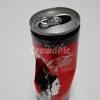can: (29, 5, 82, 100)
pet: (30, 5, 82, 100)
